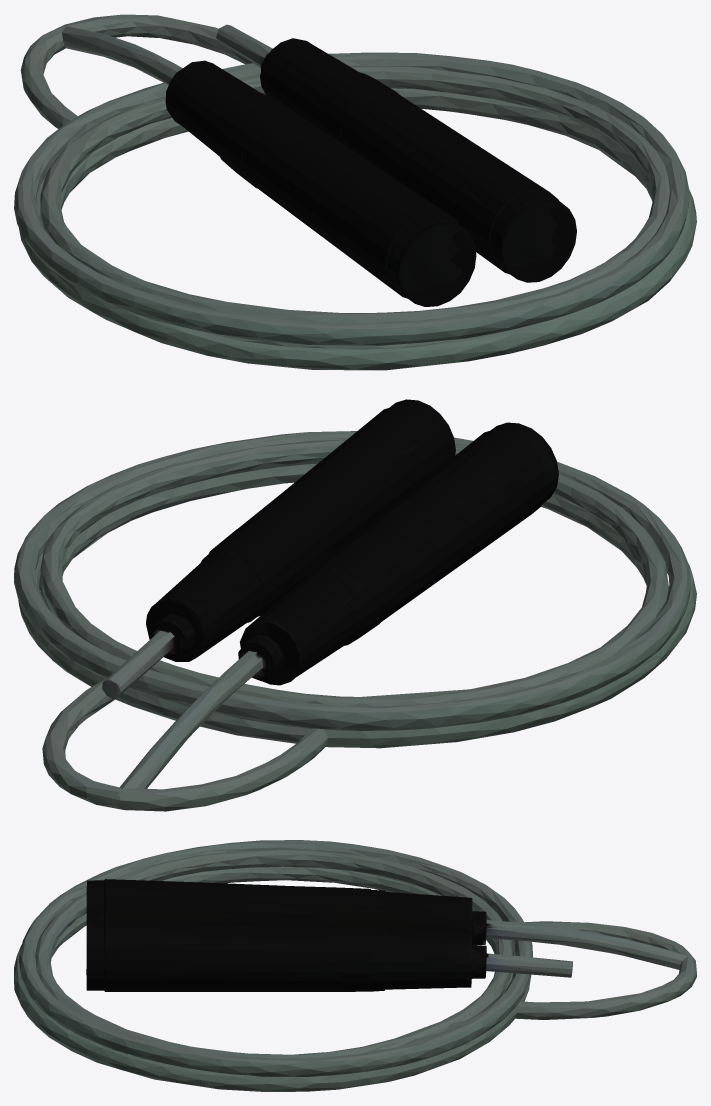
Rendered from jump_rope_coiled.glb.
The picture shows the model from 3 angles, top to bottom: view 1: azimuth 30°, elevation 25°; view 2: azimuth 150°, elevation 25°; view 3: azimuth 270°, elevation 25°; orthographic projection. The views are drawn at different scales.
Parts seen in each view (by area): view 1: jump_rope_coiled; view 2: jump_rope_coiled; view 3: jump_rope_coiled.
Part boxes in pixels (box(x1,y1,x2,y2)): jump_rope_coiled: box(14, 14, 696, 370); jump_rope_coiled: box(14, 399, 696, 811); jump_rope_coiled: box(14, 840, 696, 1091).
Bounding box in the file's own units: 0.3 × 0.0533 × 0.3844.
1 material, 1 textured.
